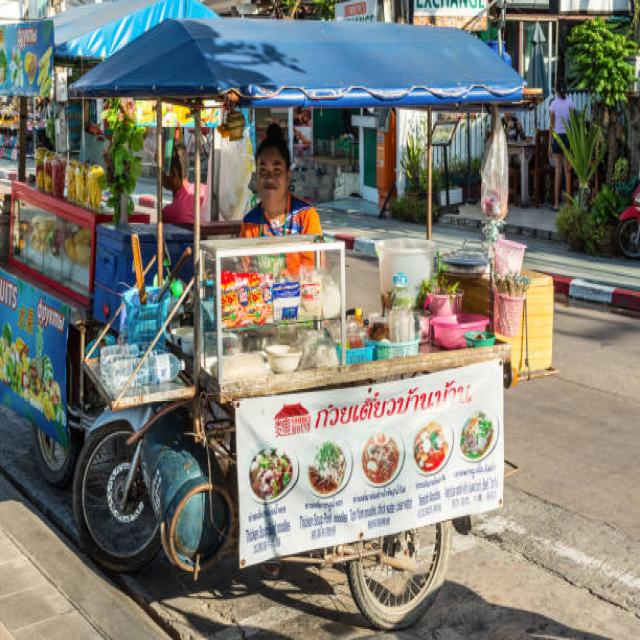Emperan: (0, 7, 539, 638)
